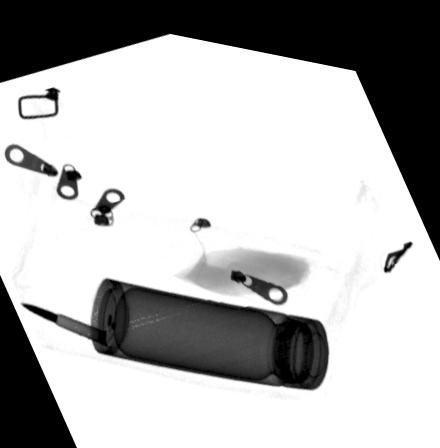Bullet: (17, 300, 112, 341)
